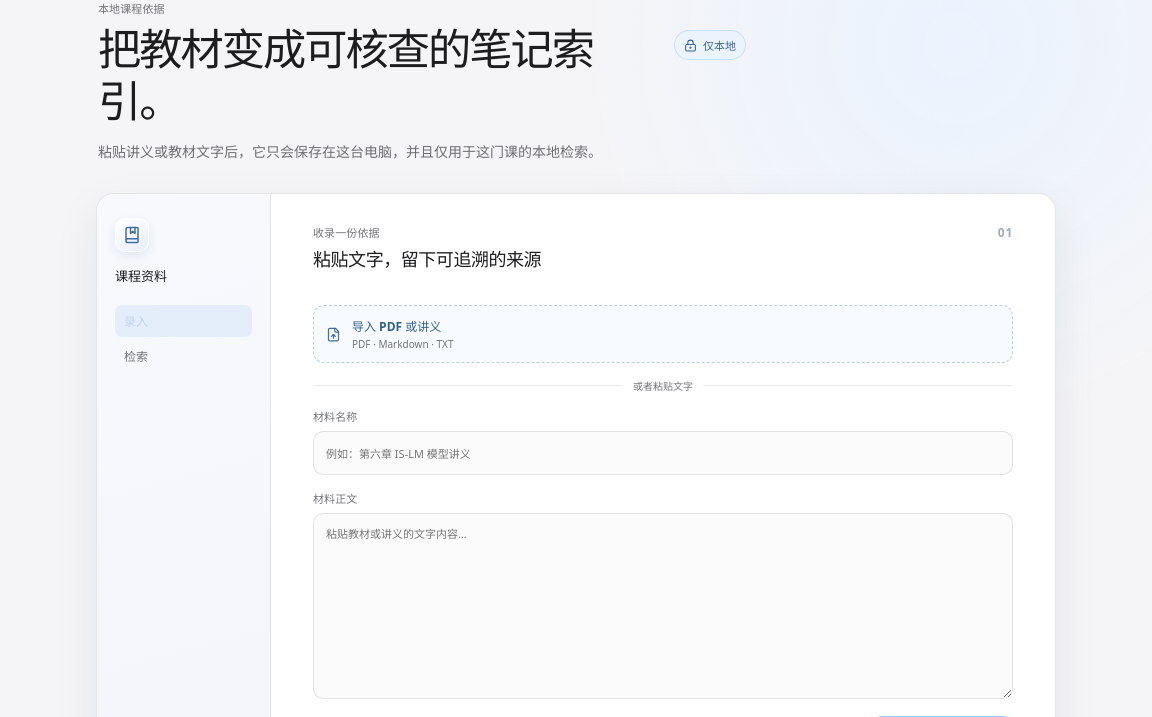
Test case: imports a selected PDF into the active course without pasting its text
Click the button "导入 PDF 或讲义 PDF · Markdown · TXT" at (397, 327), box [313, 306, 1013, 364]
(page scrolled)
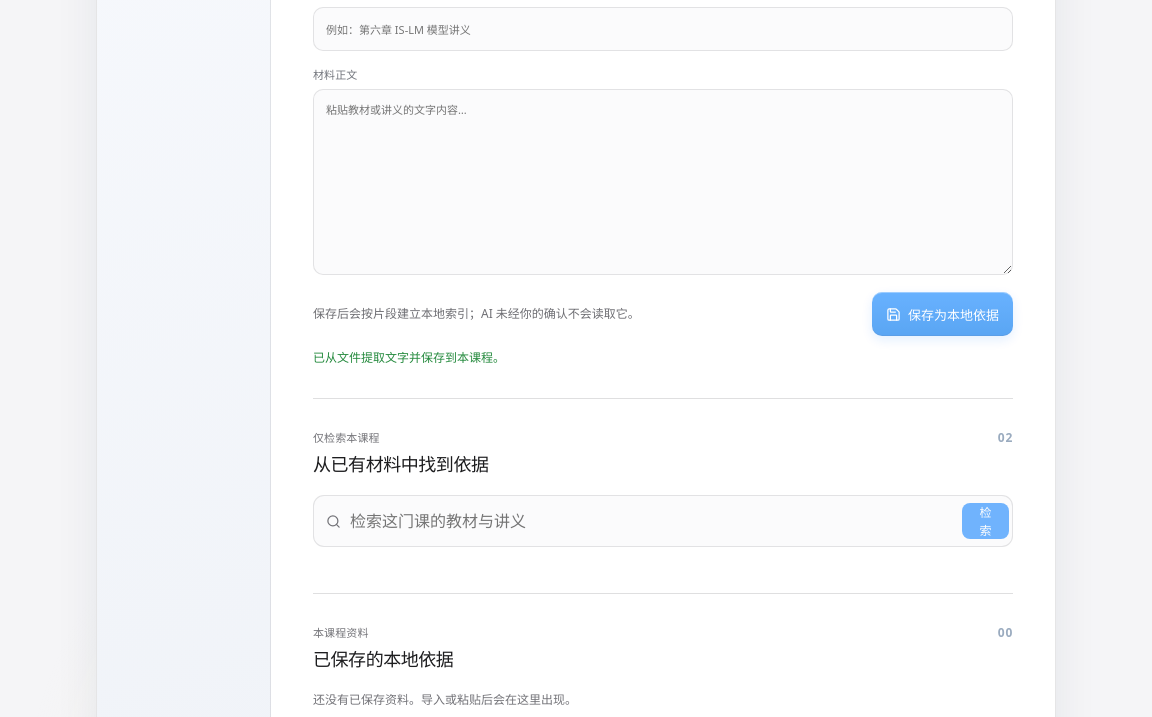
Expected: the text "已从文件提取文字并保存到本课程。" is shown, [313, 350, 505, 366]
